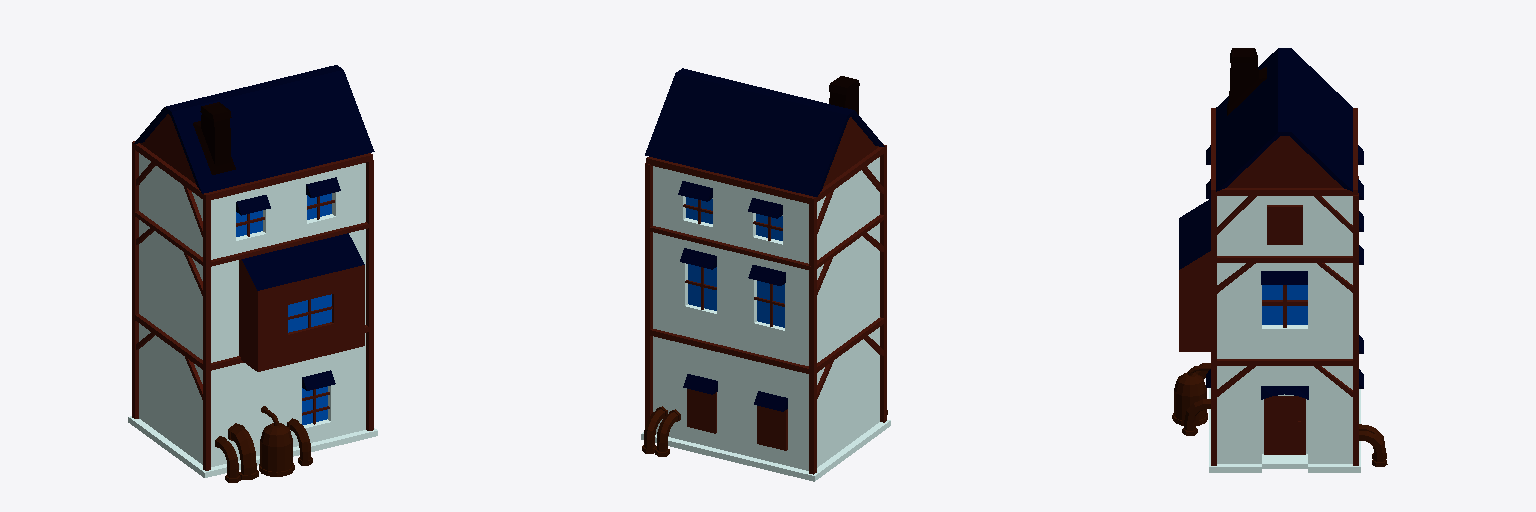
The model's file is house_with_tank_2.obj.
3 views of the same model, side by side, from view 1: azimuth 30°, elevation 25°; view 2: azimuth 150°, elevation 25°; view 3: azimuth 270°, elevation 25° (orthographic).
Parts seen in each view (by area): view 1: House, pipes; view 2: House, pipes; view 3: House, pipes.
Part boxes in pixels (x1,y1,x2,y2): House: (128, 65, 377, 477); pipes: (215, 406, 312, 482); House: (641, 68, 890, 481); pipes: (642, 406, 887, 456); House: (1179, 48, 1363, 472); pipes: (1172, 363, 1387, 466).
Size of the model in its own units: 8.75 by 16.82 by 9.36.